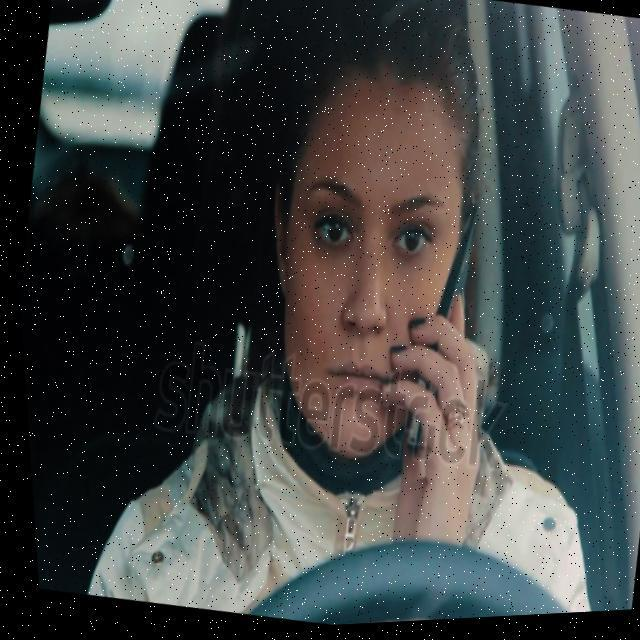PhoneCall: (397, 205, 489, 431)
